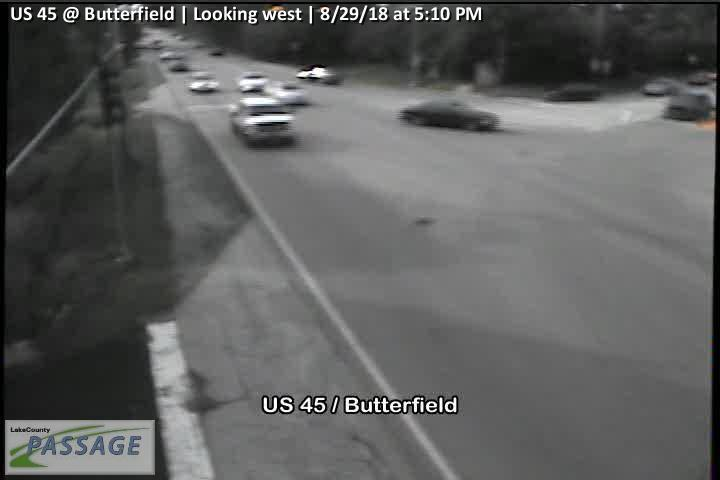SUV: (228, 96, 294, 146), (187, 69, 219, 91)
Sedan: (401, 98, 497, 131), (263, 78, 311, 105), (234, 69, 266, 92)
